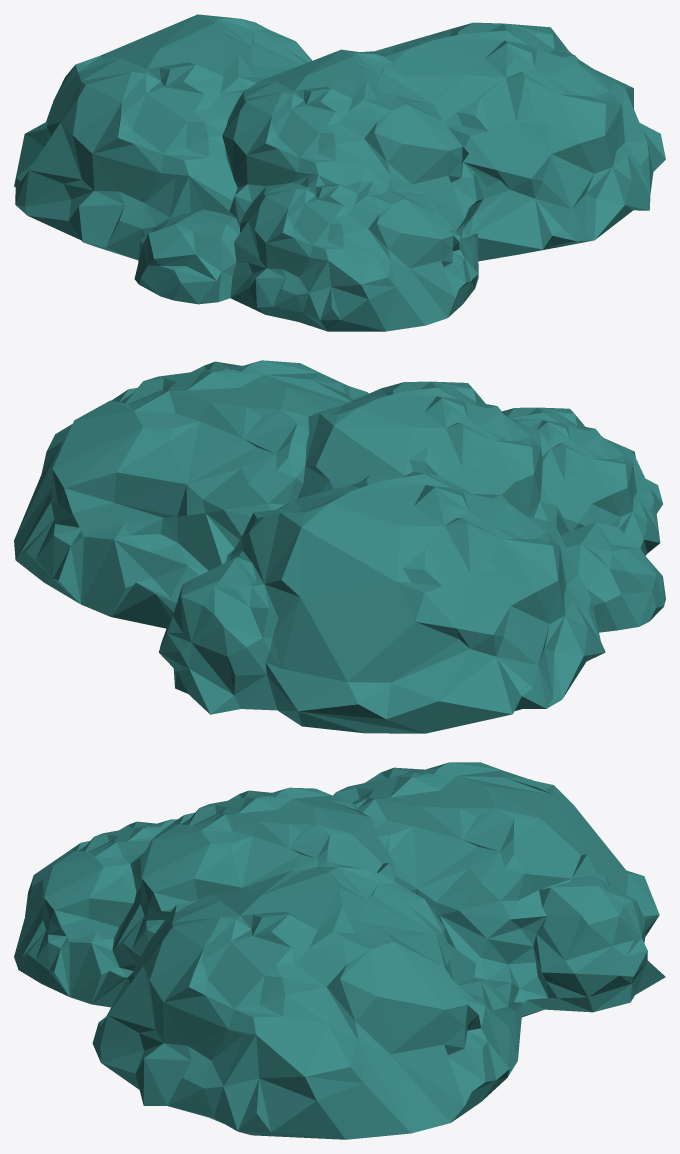
The model's file is SM_Sea_Vegetation_Chunk_A.fbx.
3 views of the same model, one above another, from view 1: azimuth 30°, elevation 25°; view 2: azimuth 150°, elevation 25°; view 3: azimuth 270°, elevation 25° (orthographic). The views are drawn at different scales.
Parts seen in each view (by area): view 1: sea-vegetation-chunk-a; view 2: sea-vegetation-chunk-a; view 3: sea-vegetation-chunk-a.
Part boxes in pixels (bbox=[...]): sea-vegetation-chunk-a: bbox=[14, 14, 665, 331]; sea-vegetation-chunk-a: bbox=[14, 360, 665, 733]; sea-vegetation-chunk-a: bbox=[14, 762, 665, 1139].
Size of the model in its own units: 2.81 by 0.765 by 2.7.
